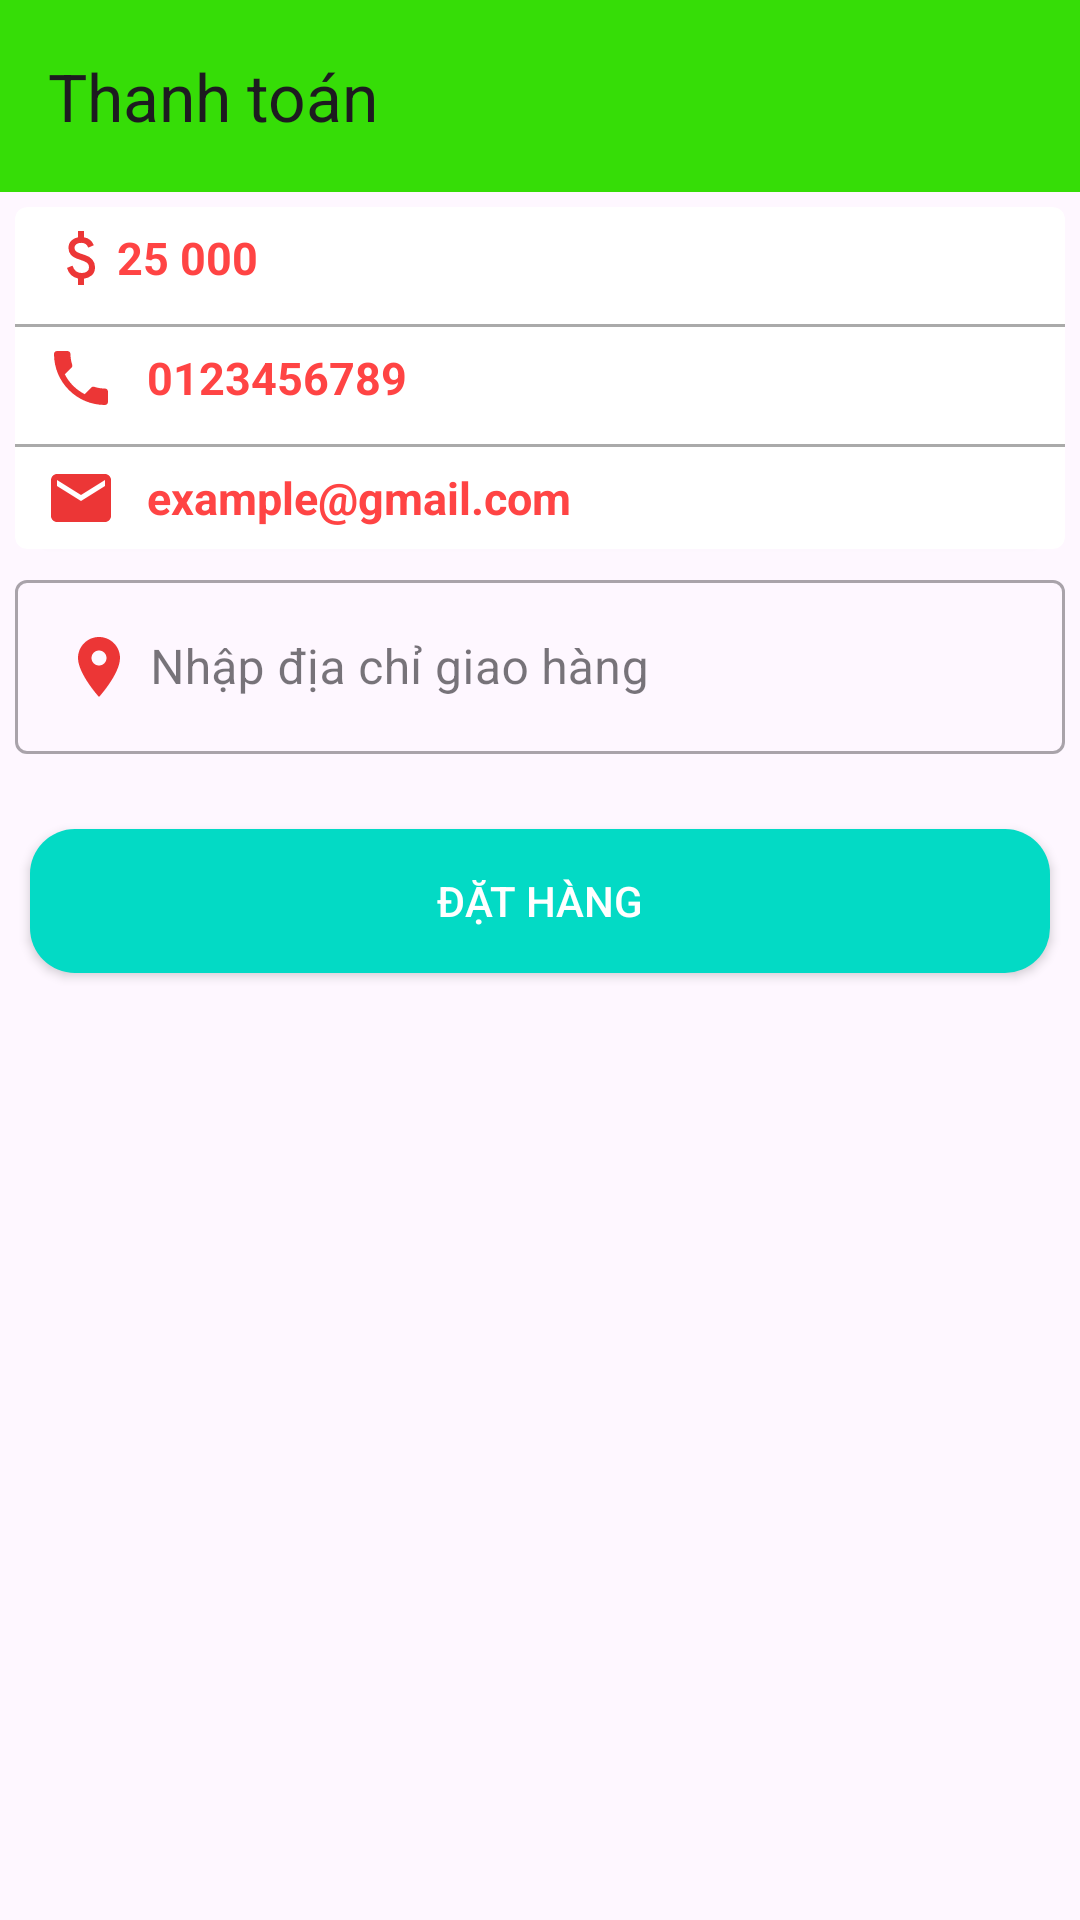

Point at icon controls on the screen. Image size 1080 × 1920, points as (x,y).
attach money: (81,258)
email: (81,498)
phone: (81,378)
